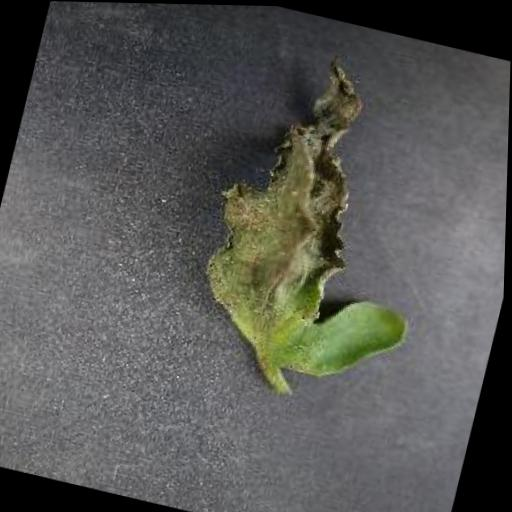Late Blight: (183, 32, 464, 392)
